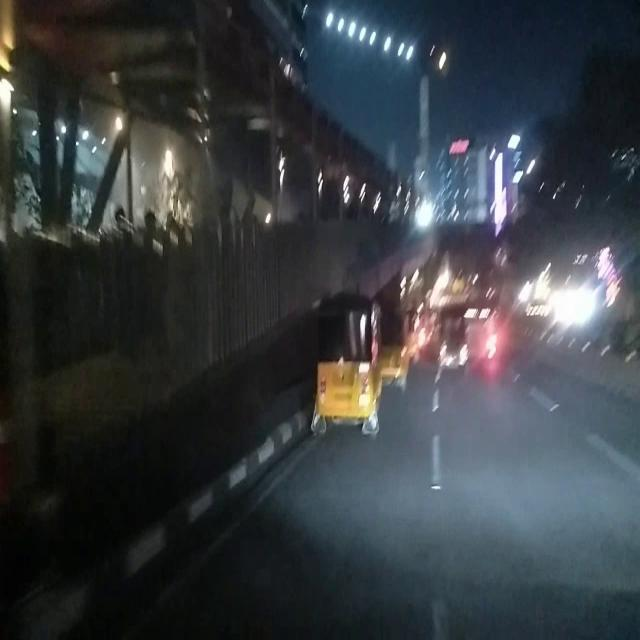auto: (316, 292, 385, 443), (383, 284, 408, 388)
road: (299, 372, 639, 640), (185, 447, 298, 639)
